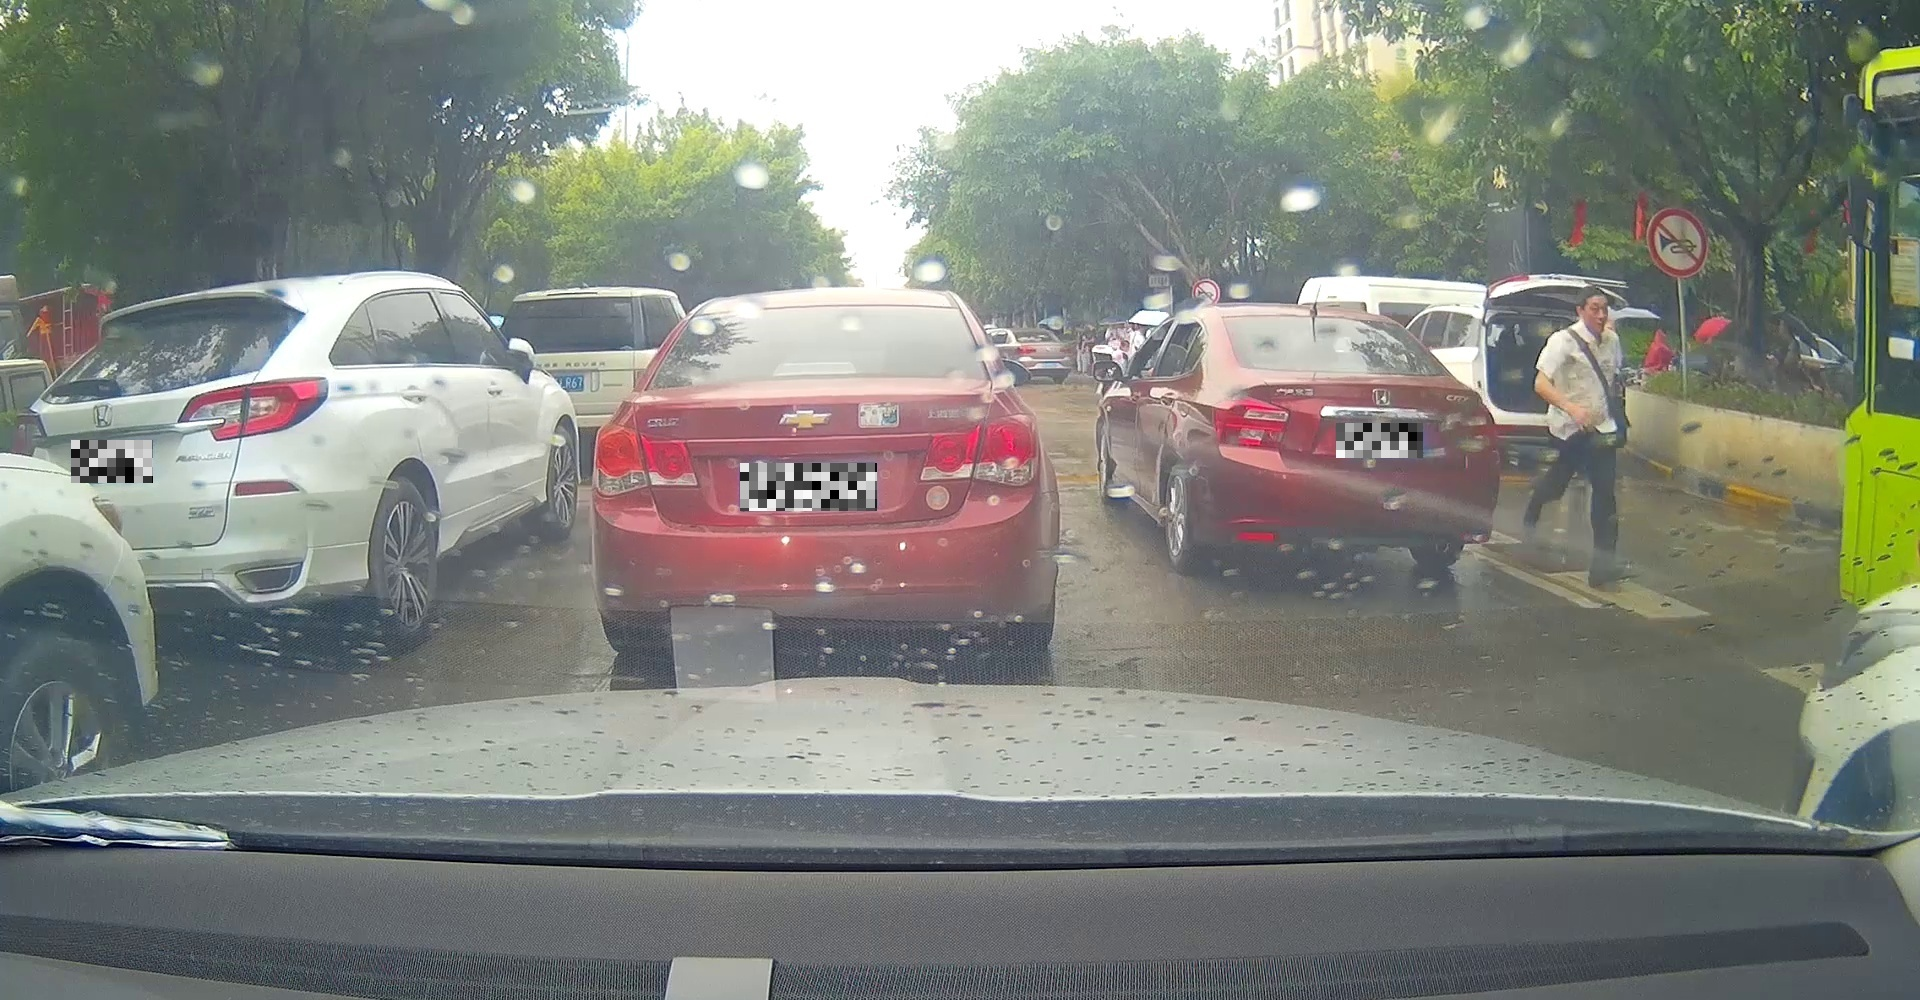L_light: (592, 425, 700, 497), (1210, 393, 1289, 448), (14, 409, 48, 458)
R_light: (177, 376, 328, 442), (919, 411, 1039, 487), (1445, 410, 1498, 451)
T_light: (775, 362, 855, 376), (143, 308, 190, 317), (1327, 364, 1377, 372)
day-no: (588, 286, 1062, 654), (11, 278, 345, 656), (1199, 303, 1500, 570)
plate_1: (71, 440, 152, 484)
plate_2: (740, 463, 877, 511)
plate_3: (1336, 423, 1423, 458)
